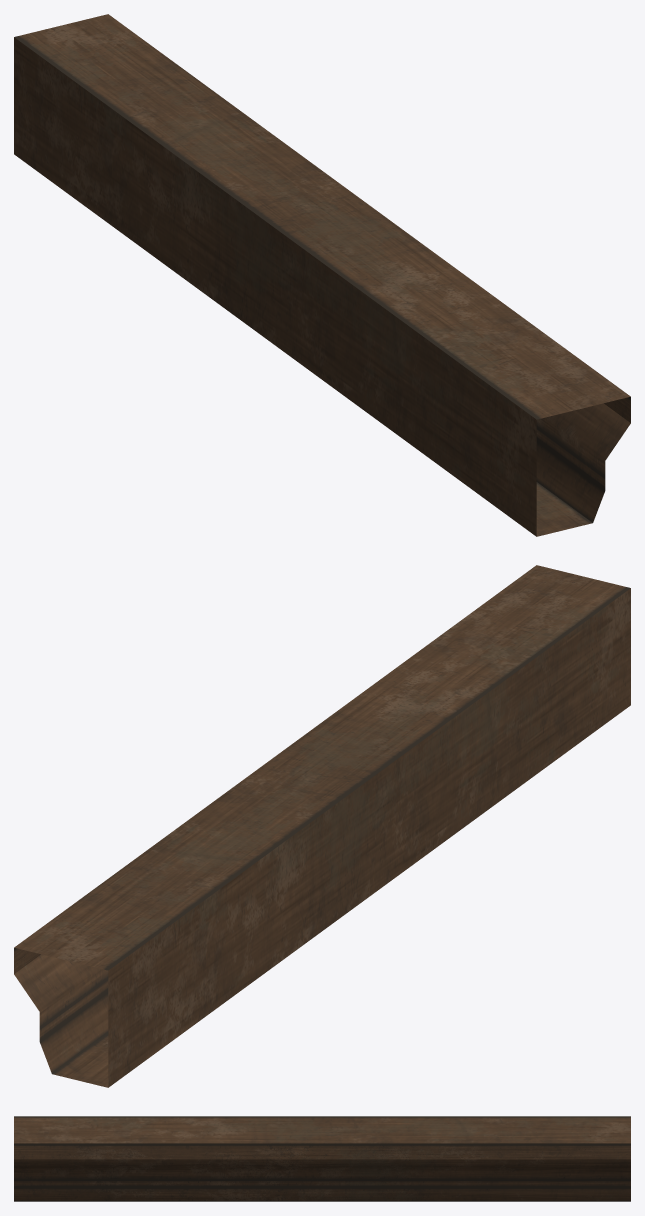
Rendered from TowerOverhang_TopTrim_2x1.fbx.
3 renders of one model, top to bottom at view 1: azimuth 30°, elevation 25°; view 2: azimuth 150°, elevation 25°; view 3: azimuth 270°, elevation 25°, orthographic. The views are drawn at different scales.
Visible parts, largest first — view 1: polySurface101; view 2: polySurface101; view 3: polySurface101.
Part boxes in pixels (x1,y1,x2,y2): polySurface101: (14, 14, 630, 536); polySurface101: (14, 565, 630, 1087); polySurface101: (14, 1116, 630, 1201).
Size of the model in its own units: 20.84 by 24.75 by 200.
